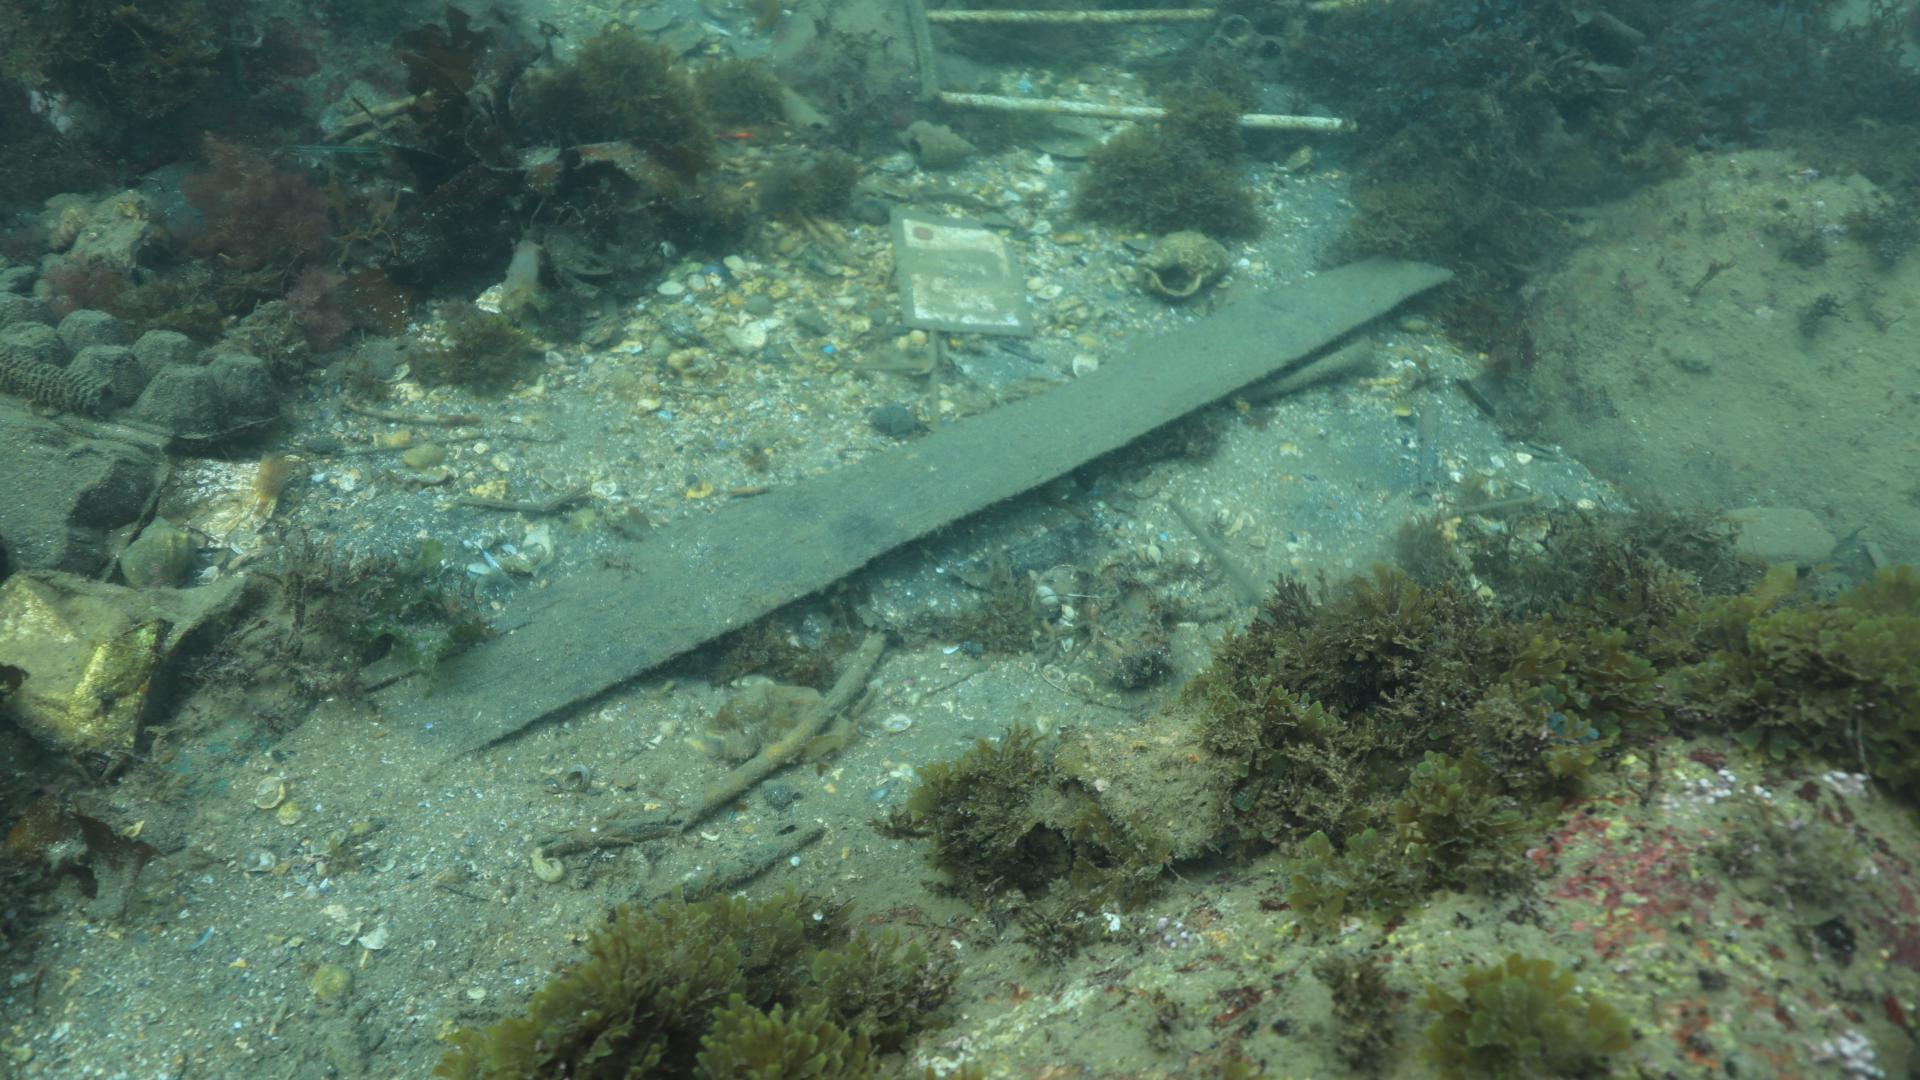wood: (351, 252, 1452, 756)
